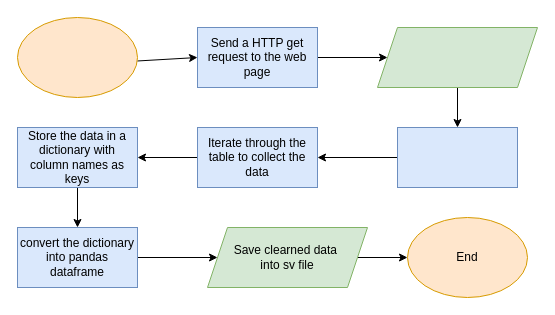
This 555x315 diagram has some shape labels left out. Each missing label, with the box of its shape:
extract column names of the target table: (396, 126, 518, 188)
Parse the respoonse as BeautifulSoup object: (376, 26, 538, 88)
Start: (16, 16, 138, 98)
